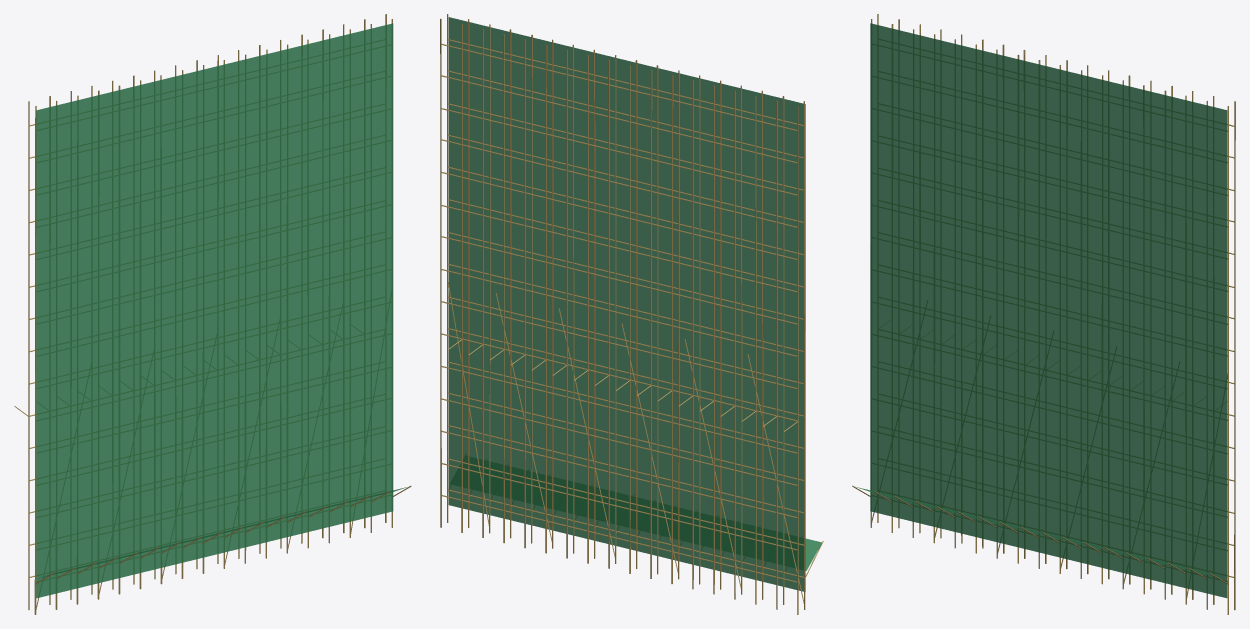
Rendered from hk-balcony-tenement-scaffold.glb.
The picture shows the model from 3 angles, left to right: view 1: azimuth 30°, elevation 25°; view 2: azimuth 150°, elevation 25°; view 3: azimuth 330°, elevation 25°; orthographic projection.
Parts seen in each view (by area): view 1: Scaffold_net, Scaffold_bamboo; view 2: Scaffold_net, Scaffold_bamboo; view 3: Scaffold_net, Scaffold_bamboo.
Boxes of the visible parts, bbox=[...] form: Scaffold_net: bbox=[36, 23, 407, 598]; Scaffold_bamboo: bbox=[14, 14, 411, 614]; Scaffold_net: bbox=[448, 17, 821, 591]; Scaffold_bamboo: bbox=[440, 14, 823, 614]; Scaffold_net: bbox=[855, 23, 1227, 598]; Scaffold_bamboo: bbox=[852, 14, 1235, 614].
Size of the model in its own units: 22.1 by 29.95 by 4.22.
